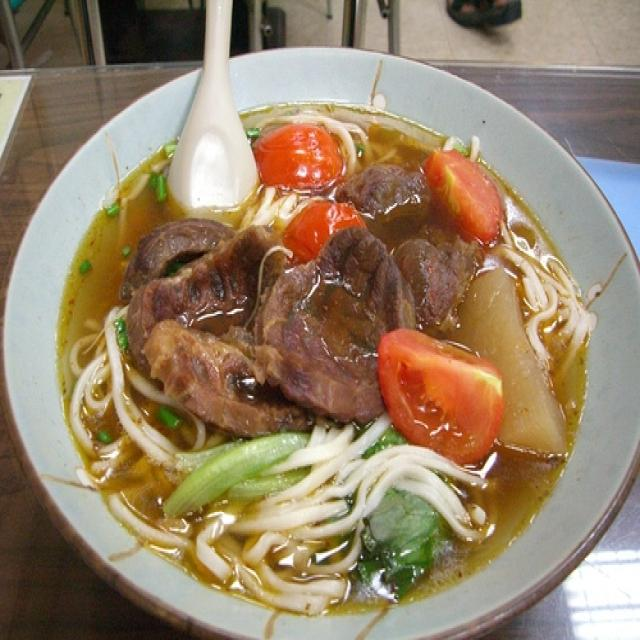面条主食: (19, 50, 626, 633)
